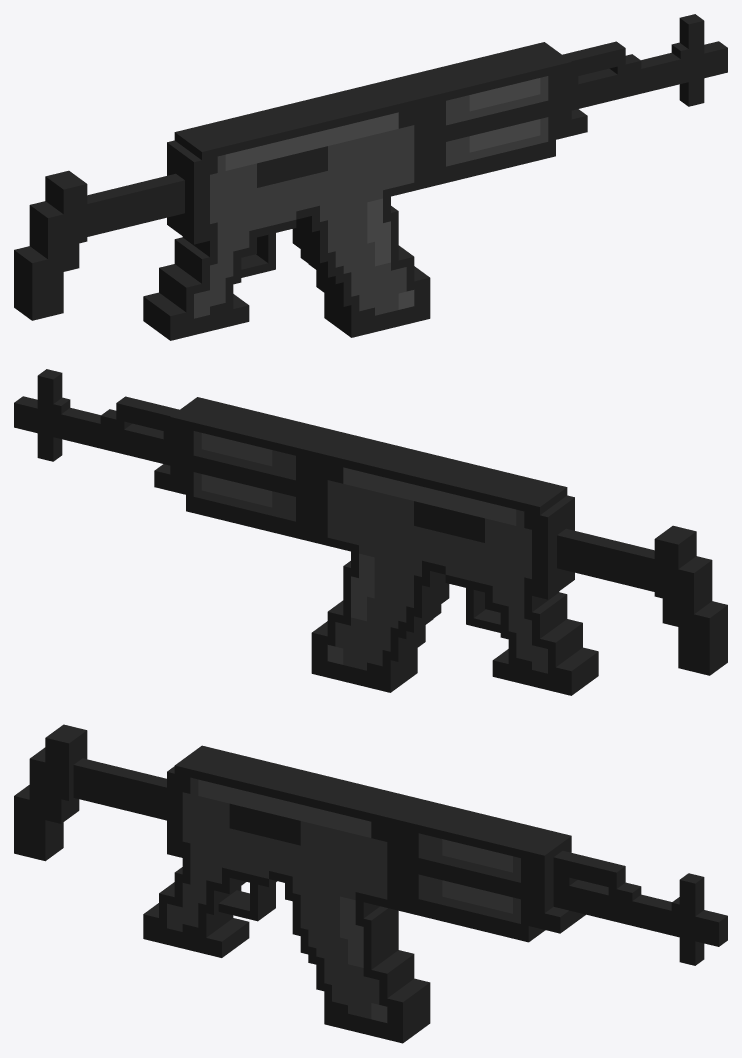
File: Gun7.obj
3 views of the same model, one above another, from view 1: azimuth 30°, elevation 25°; view 2: azimuth 150°, elevation 25°; view 3: azimuth 330°, elevation 25° (orthographic).
Visible parts, largest first — view 1: Gun7; view 2: Gun7; view 3: Gun7.
Boxes of the visible parts, left/top/right/bottom form: Gun7: left=14, top=14, right=727, bottom=340; Gun7: left=14, top=369, right=727, bottom=695; Gun7: left=14, top=724, right=727, bottom=1043.
Bounding box in the file's own units: 89 × 27 × 6.
Materials: 1 (1 with a texture image).
